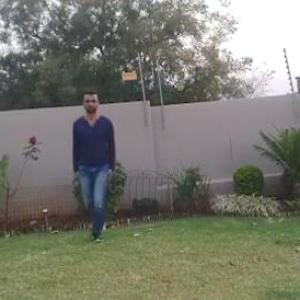follow: (70, 88, 122, 240)
